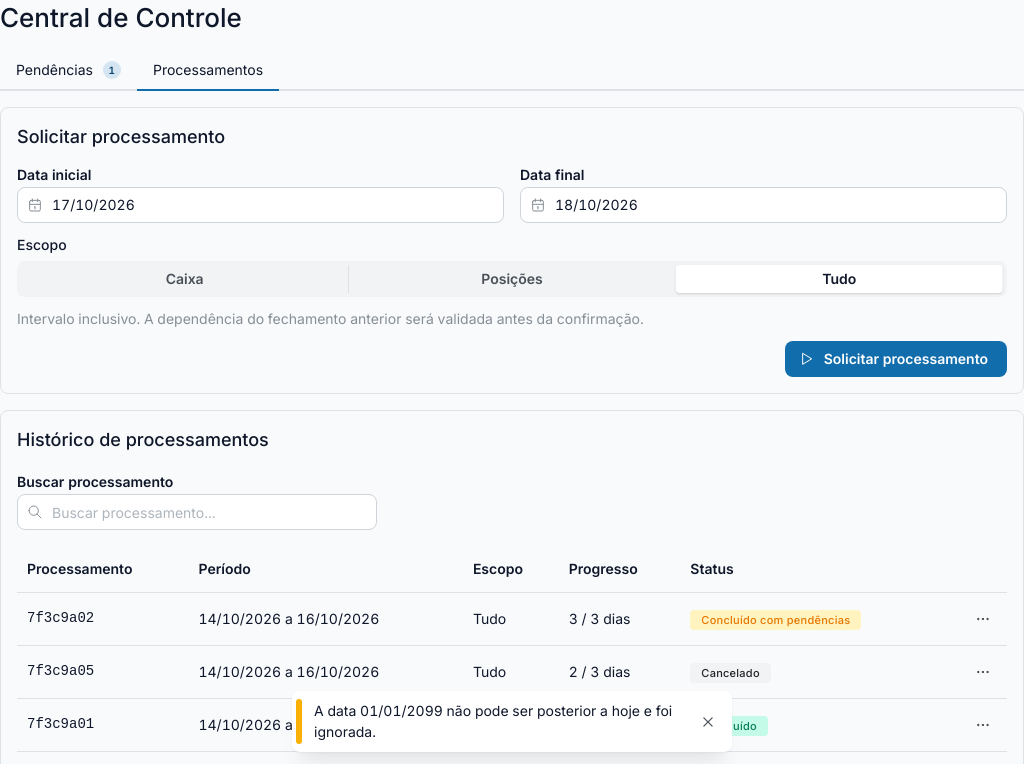
Test: Processamentos: request (§11.1, OQ-20) › OQ-31 a day before processed with issues is enough: no warning
Step 1. Click the button "Solicitar processamento" → x=896, y=359, box [785, 341, 1007, 377]
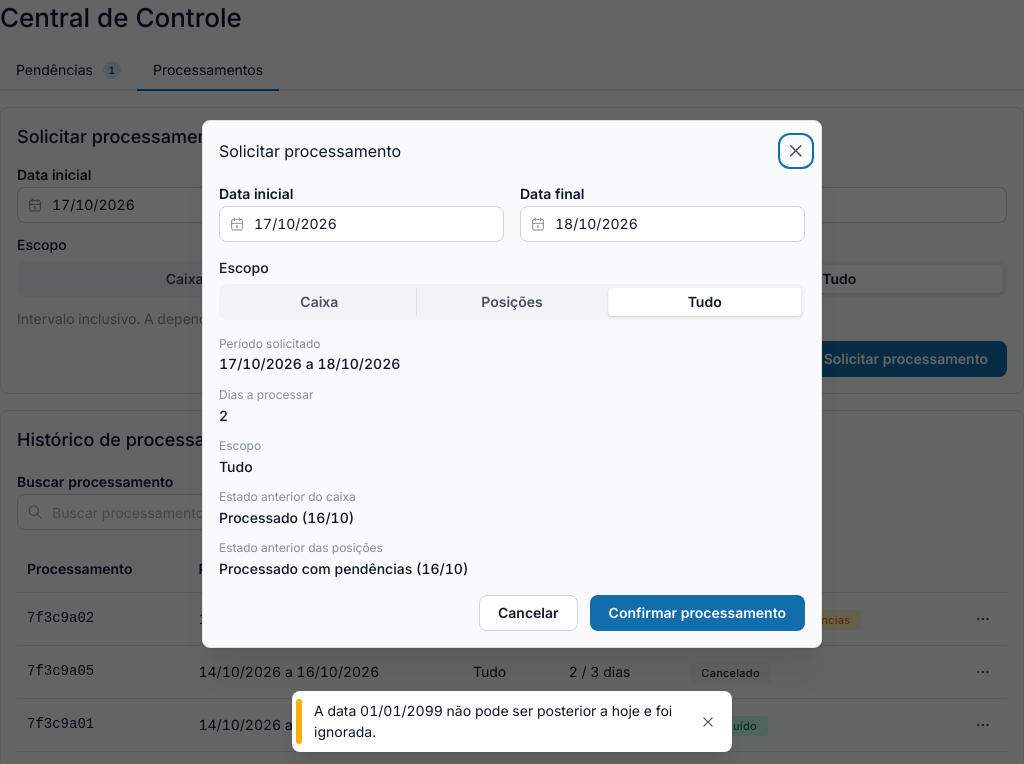
expect the text "17/10/2026 a 18/10/2026" is shown: met, box [219, 356, 400, 372]
expect the text "Processado com pendências (16/10)" is shown: met, box [219, 560, 468, 577]
expect the text "Processado (16/10)" is shown: met, box [219, 509, 354, 526]
